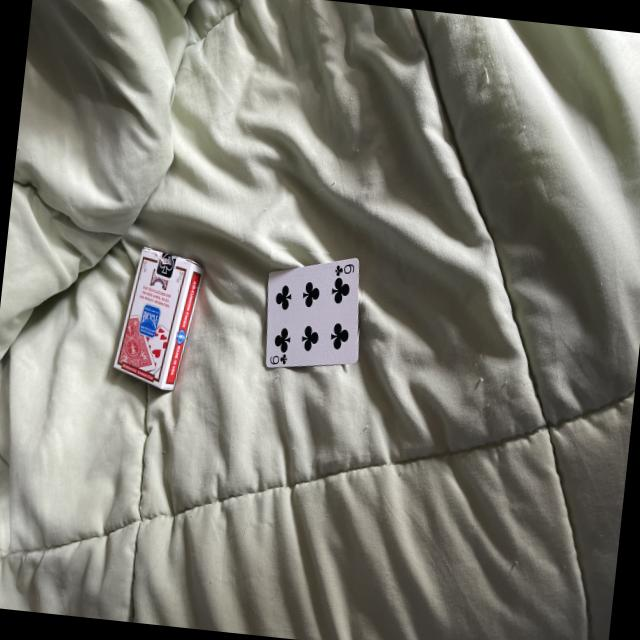6 of clubs: (265, 255, 359, 365)
